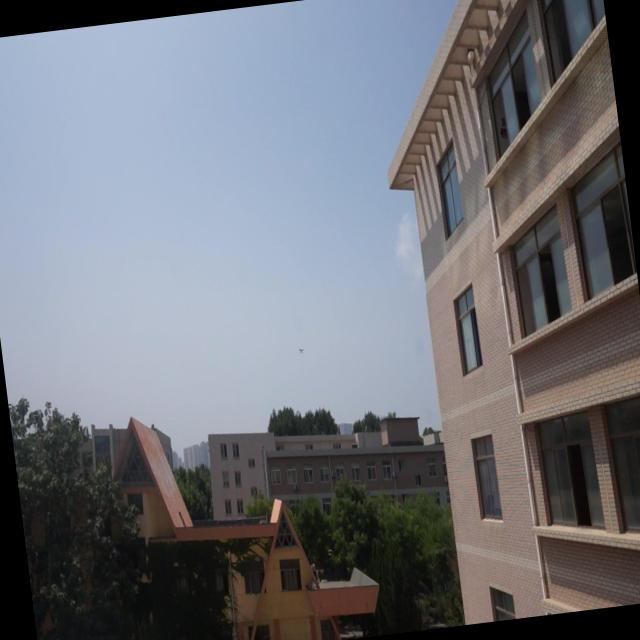drone: (292, 341, 308, 357)
